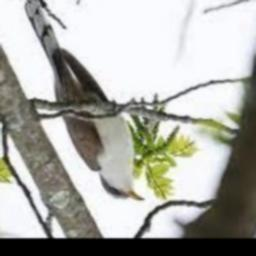Cuckoo: (25, 0, 147, 201)
